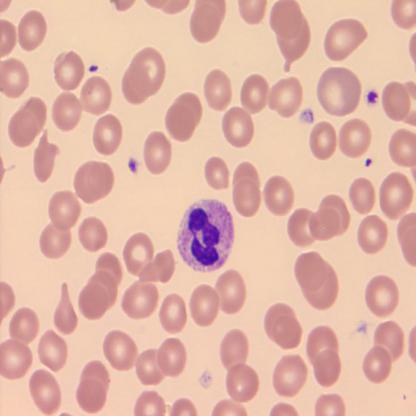Segmented neutrophil: (174, 196, 236, 273)
